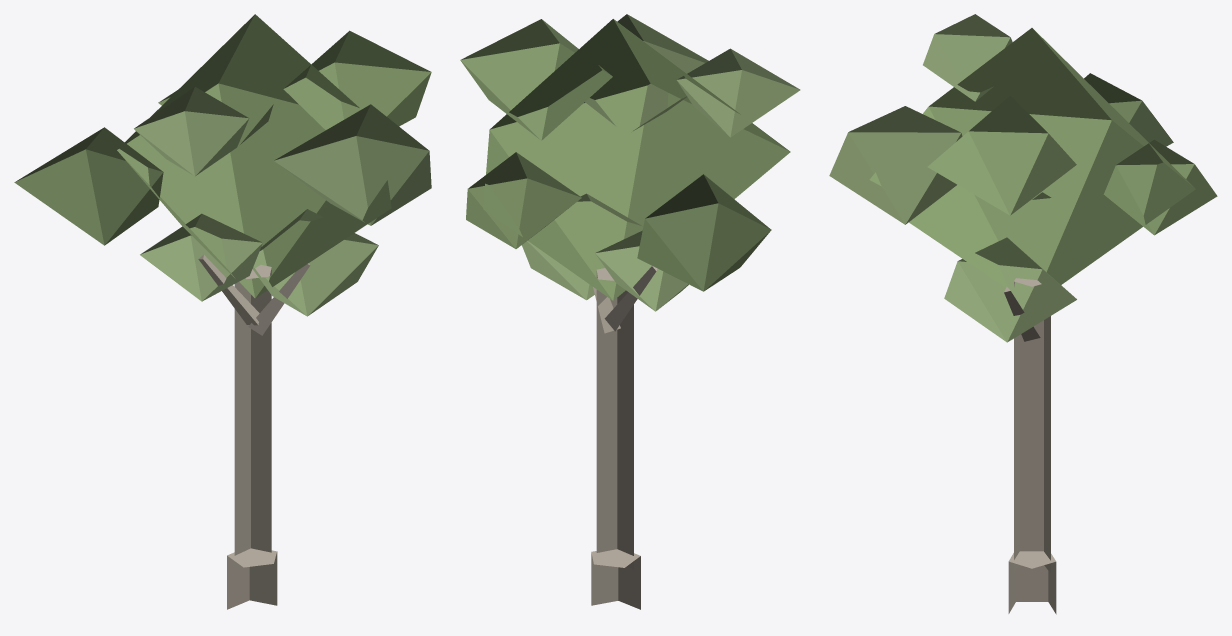
File: tree.cold.birch__summer.glb
3 renders of one model, left to right at view 1: azimuth 30°, elevation 25°; view 2: azimuth 150°, elevation 25°; view 3: azimuth 270°, elevation 25°, orthographic. The views are drawn at different scales.
Visible parts, largest first — view 1: tree.cold.birch__summer; view 2: tree.cold.birch__summer; view 3: tree.cold.birch__summer.
Part boxes in pixels (box(x1,y1,x2,y2)): tree.cold.birch__summer: box(14, 14, 431, 609); tree.cold.birch__summer: box(460, 14, 800, 609); tree.cold.birch__summer: box(829, 14, 1217, 614).
Bounding box in the file's own units: 6.03 × 9.83 × 5.93.
